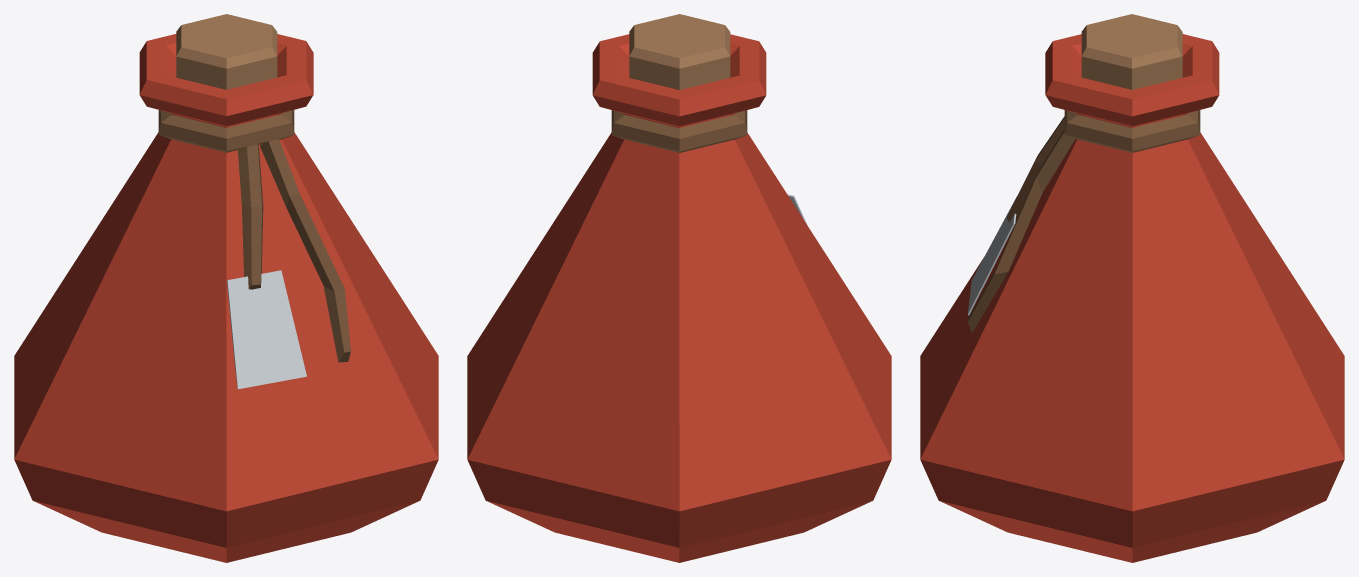
The model's file is Red_Potion_6(String+Label).fbx.
3 renders of one model, left to right at view 1: azimuth 30°, elevation 25°; view 2: azimuth 150°, elevation 25°; view 3: azimuth 270°, elevation 25°, orthographic.
Visible parts, largest first — view 1: Red_Potion_6(String+Label); view 2: Red_Potion_6(String+Label); view 3: Red_Potion_6(String+Label).
Part boxes in pixels (x1=…): Red_Potion_6(String+Label): x1=14, y1=14, x2=438, y2=562; Red_Potion_6(String+Label): x1=467, y1=14, x2=891, y2=562; Red_Potion_6(String+Label): x1=920, y1=14, x2=1344, y2=562.
Bounding box in the file's own units: 20.22 × 21.21 × 17.51.
